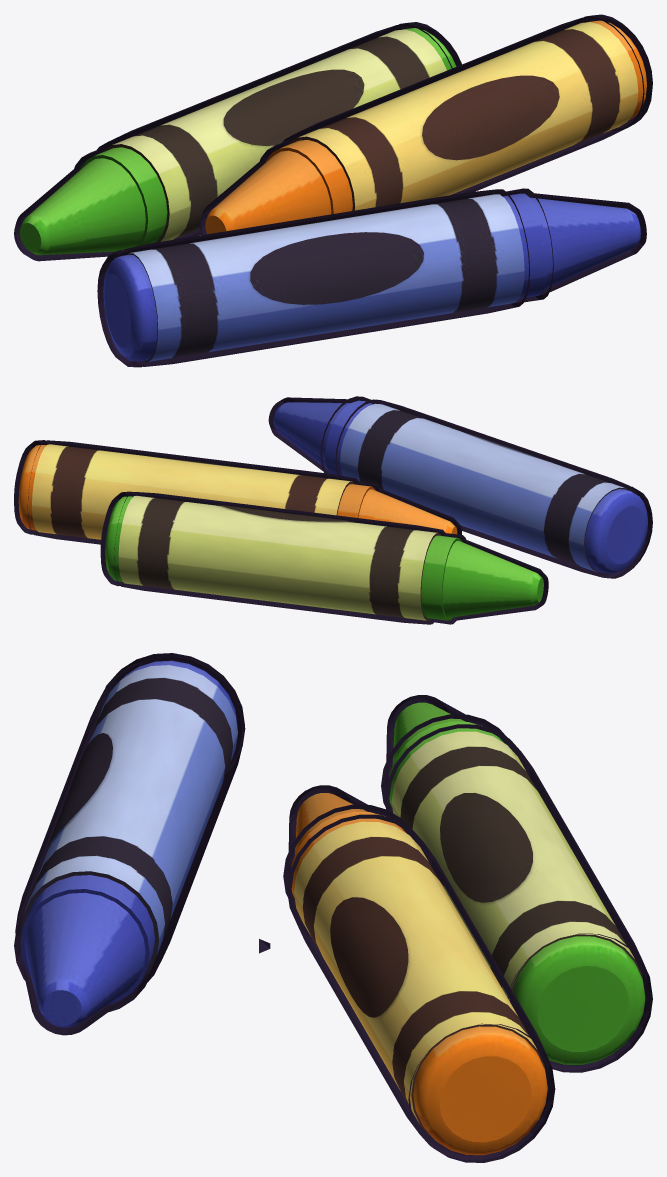
The model's file is Crayons.glb.
The picture shows the model from 3 angles, top to bottom: view 1: azimuth 30°, elevation 25°; view 2: azimuth 150°, elevation 25°; view 3: azimuth 270°, elevation 25°; orthographic projection. The views are drawn at different scales.
Visible parts, largest first — view 1: Crayons, Crayons_Outline; view 2: Crayons, Crayons_Outline; view 3: Crayons, Crayons_Outline.
Part boxes in pixels (x1=…): Crayons: x1=20, y1=20, x2=646, y2=361; Crayons_Outline: x1=14, y1=14, x2=652, y2=367; Crayons: x1=18, y1=400, x2=647, y2=620; Crayons_Outline: x1=14, y1=396, x2=652, y2=624; Crayons: x1=20, y1=660, x2=645, y2=1155; Crayons_Outline: x1=14, y1=653, x2=652, y2=1162.
Bounding box in the file's own units: 6.73 × 1.11 × 4.58.
Materials: 2 (2 with a texture image).
